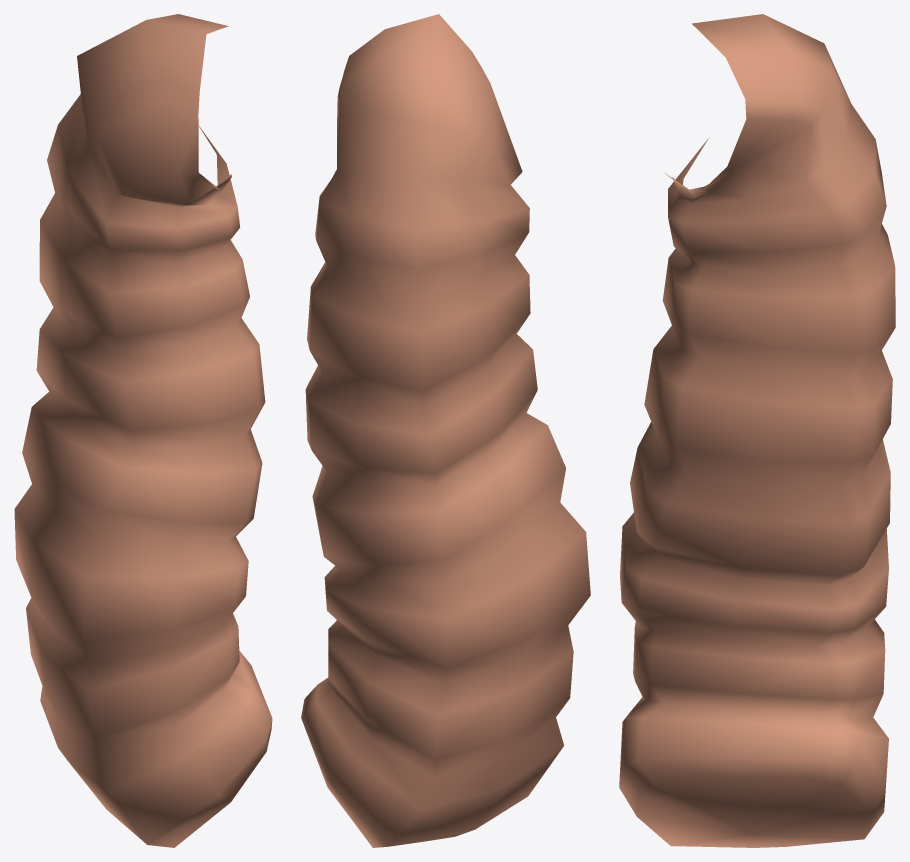
The model's file is ascending-colon.glb.
3 renders of one model, left to right at view 1: azimuth 30°, elevation 25°; view 2: azimuth 150°, elevation 25°; view 3: azimuth 270°, elevation 25°, orthographic. The views are drawn at different scales.
Parts seen in each view (by area): view 1: Ascending colon; view 2: Ascending colon; view 3: Ascending colon.
Part boxes in pixels (bbox=[...]): Ascending colon: bbox=[14, 14, 272, 847]; Ascending colon: bbox=[301, 14, 590, 847]; Ascending colon: bbox=[619, 14, 895, 847].
Bounding box in the file's own units: 0.0538 × 0.1961 × 0.0582.
